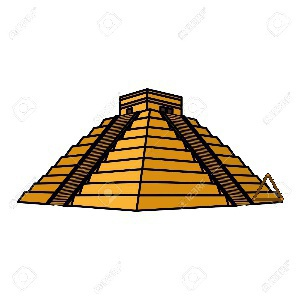triangle: (250, 169, 286, 203)
